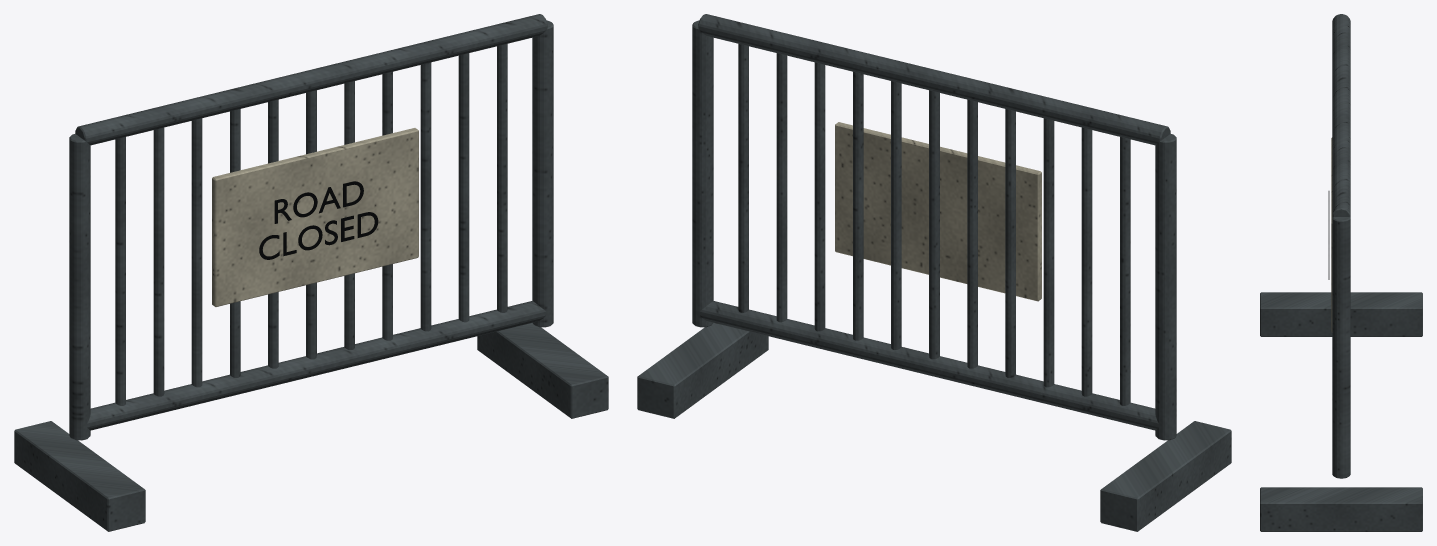
Rendered from PROP-31AAA08519C0_lod1.glb.
The picture shows the model from 3 angles, left to right: view 1: azimuth 30°, elevation 25°; view 2: azimuth 150°, elevation 25°; view 3: azimuth 270°, elevation 25°; orthographic projection. The views are drawn at different scales.
Visible parts, largest first — view 1: crowd_barrier_pickets.001, road_closed_plate.001, crowd_barrier_rails.001, crowd_barrier_feet.001, crowd_barrier_sides.001, sign_letters_ROADCLOSED.001; view 2: crowd_barrier_pickets.001, road_closed_plate.001, crowd_barrier_rails.001, crowd_barrier_feet.001, crowd_barrier_sides.001; view 3: crowd_barrier_feet.001, crowd_barrier_sides.001, crowd_barrier_rails.001, road_closed_plate.001.
Boxes of the visible parts, bbox=[...] form: crowd_barrier_pickets.001: bbox=[115, 44, 507, 405]; road_closed_plate.001: bbox=[212, 128, 418, 306]; crowd_barrier_rails.001: bbox=[75, 14, 547, 430]; crowd_barrier_feet.001: bbox=[14, 323, 608, 531]; crowd_barrier_sides.001: bbox=[69, 20, 553, 440]; sign_letters_ROADCLOSED.001: bbox=[259, 181, 378, 259]; crowd_barrier_pickets.001: bbox=[738, 44, 1130, 405]; road_closed_plate.001: bbox=[835, 122, 1041, 301]; crowd_barrier_rails.001: bbox=[698, 14, 1170, 430]; crowd_barrier_feet.001: bbox=[637, 323, 1231, 531]; crowd_barrier_sides.001: bbox=[692, 20, 1176, 440]; crowd_barrier_feet.001: bbox=[1260, 292, 1422, 531]; crowd_barrier_sides.001: bbox=[1332, 217, 1350, 478]; crowd_barrier_rails.001: bbox=[1332, 14, 1350, 217]; road_closed_plate.001: bbox=[1331, 137, 1332, 332].
Size of the model in its own units: 1.84 by 1.28 by 0.6.
Materials: 3 (3 with a texture image).
